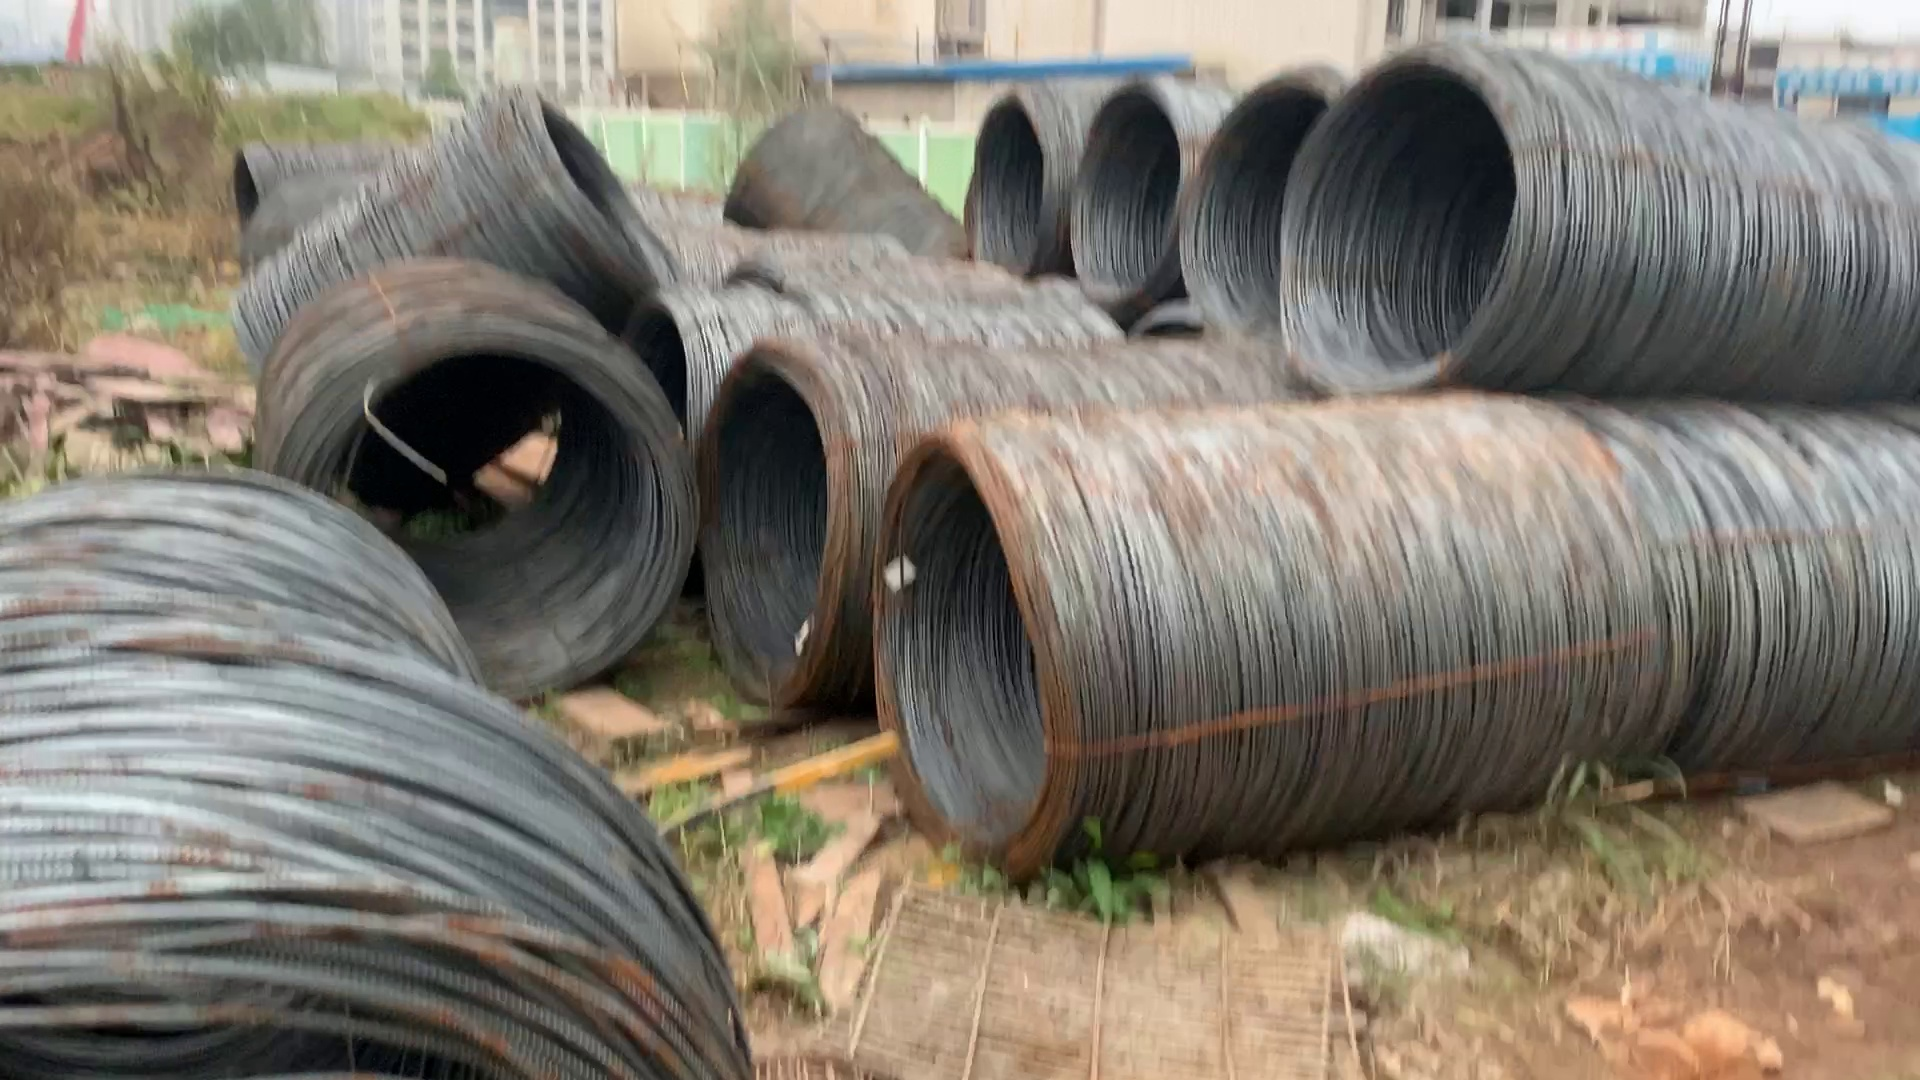coil: (1, 698, 790, 1077), (272, 342, 690, 699), (868, 425, 1083, 880), (1288, 46, 1527, 402), (688, 342, 862, 721), (502, 76, 684, 320), (1188, 66, 1340, 353), (1079, 79, 1196, 305), (952, 91, 1063, 282), (215, 132, 282, 268)
